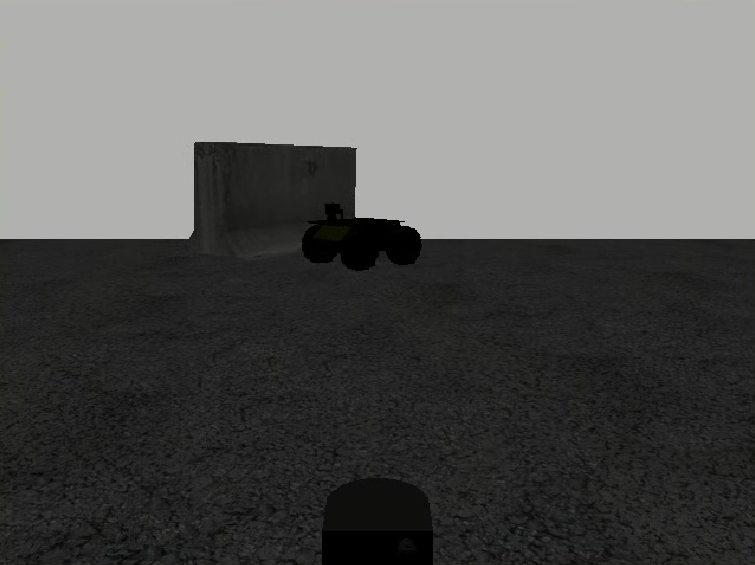husky: (302, 218, 421, 271)
